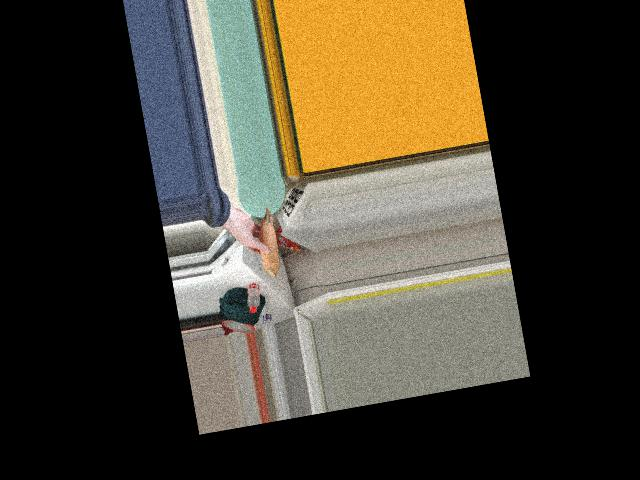sweet_potato: (250, 211, 283, 274)
